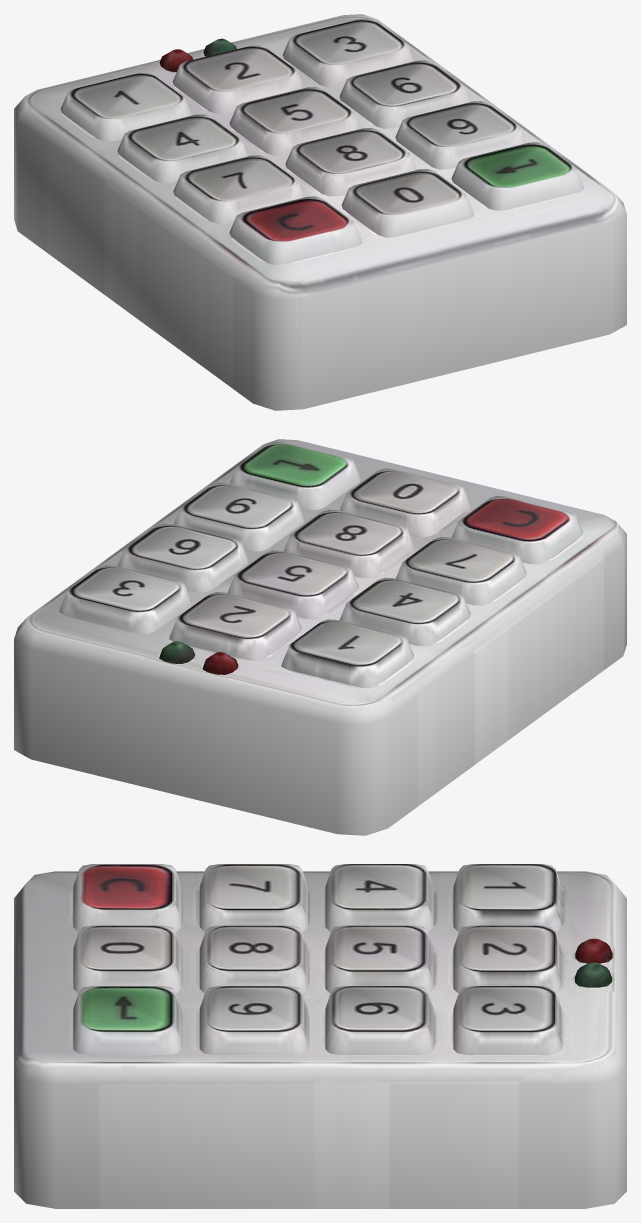
The model's file is Keypad.fbx.
The picture shows the model from 3 angles, top to bottom: view 1: azimuth 30°, elevation 25°; view 2: azimuth 150°, elevation 25°; view 3: azimuth 270°, elevation 25°; orthographic projection. The views are drawn at different scales.
Parts seen in each view (by area): view 1: Keypad; view 2: Keypad; view 3: Keypad.
Part boxes in pixels (<box>): Keypad: <box>14,14,626,410</box>; Keypad: <box>14,439,626,835</box>; Keypad: <box>14,864,626,1208</box>.
Bounding box in the file's own units: 388 × 142 × 494.
1 material, 1 textured.
